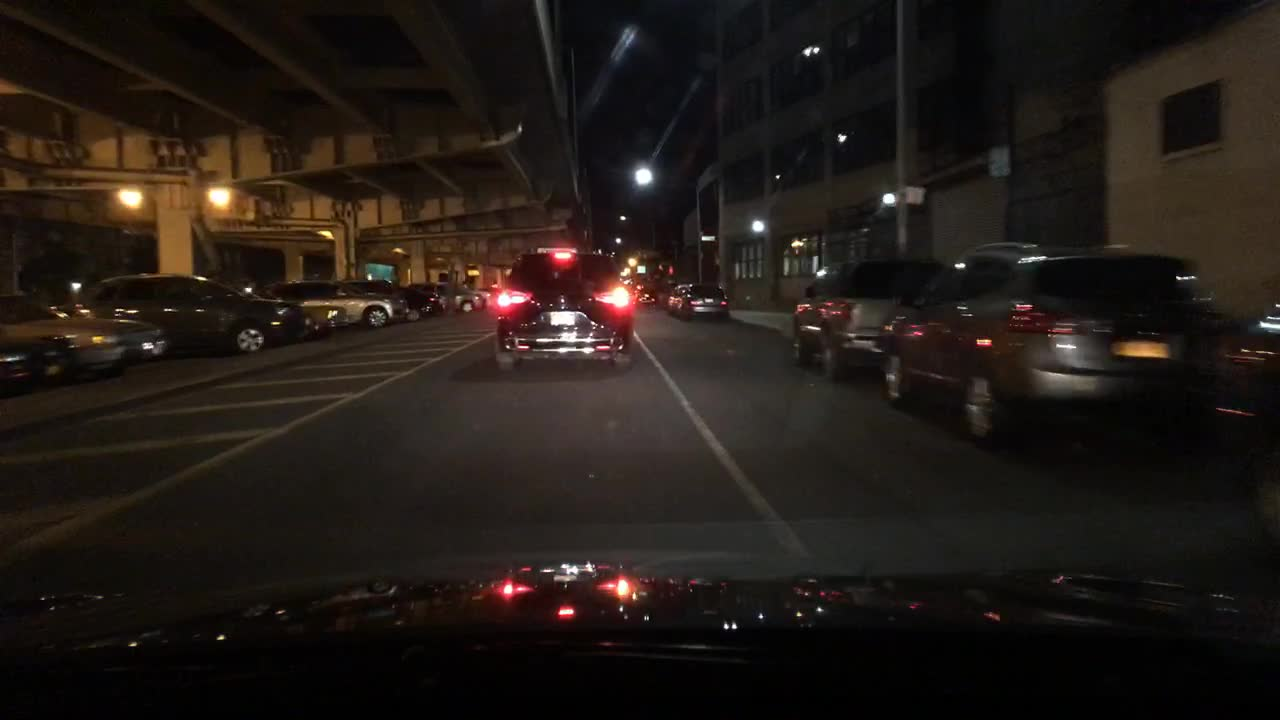car: (883, 242, 1230, 457), (790, 253, 946, 386), (496, 246, 636, 372), (0, 287, 172, 377), (87, 272, 281, 351), (1198, 298, 1275, 459), (212, 279, 337, 340), (264, 279, 395, 328), (3, 334, 72, 394), (345, 279, 420, 322), (409, 276, 479, 310), (670, 281, 728, 321), (438, 279, 490, 308), (633, 278, 658, 307), (50, 304, 95, 319)
